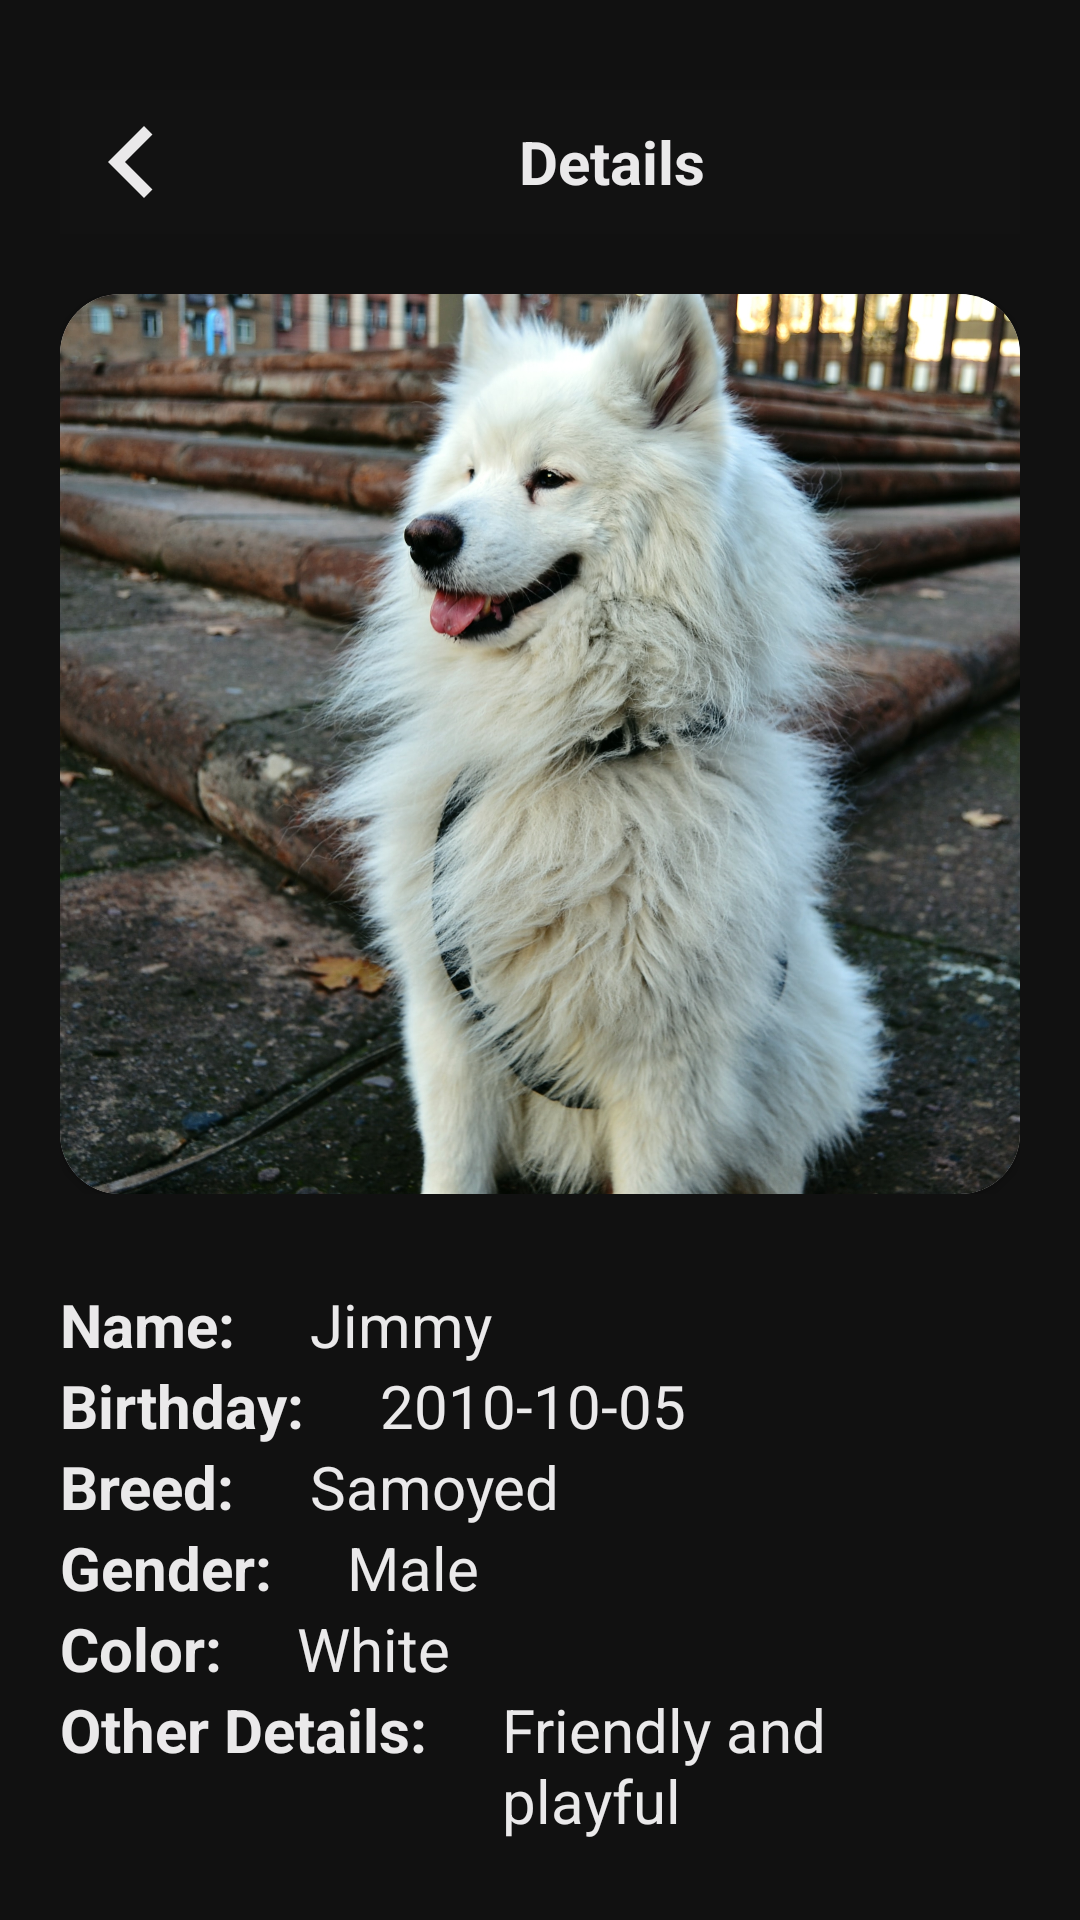

Icon click points for this 1080x1920 phone screenshot, format point (x, y):
left: point (130, 162)
